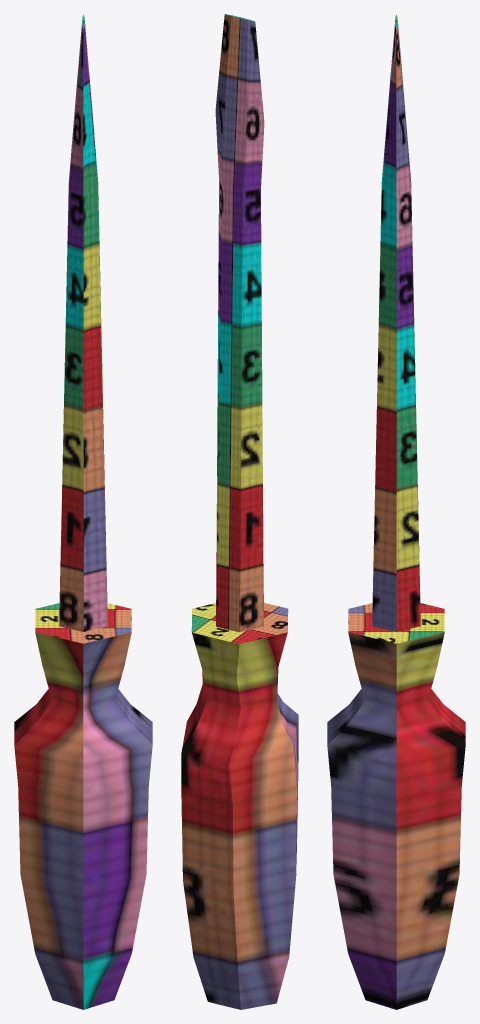
The model's file is FlatheadScrewdriver.dae.
3 renders of one model, left to right at view 1: azimuth 90°, elevation 25°; view 2: azimuth 150°, elevation 25°; view 3: azimuth 270°, elevation 25°, orthographic.
Visible parts, largest first — view 1: FlatHead_Screwdriver_mesh; view 2: FlatHead_Screwdriver_mesh; view 3: FlatHead_Screwdriver_mesh.
Part boxes in pixels (x1,y1,x2,y2): FlatHead_Screwdriver_mesh: [14, 14, 152, 1009]; FlatHead_Screwdriver_mesh: [181, 14, 298, 1009]; FlatHead_Screwdriver_mesh: [327, 14, 465, 1009].
Bounding box in the file's own units: 0.0295 × 0.241 × 0.0311.
